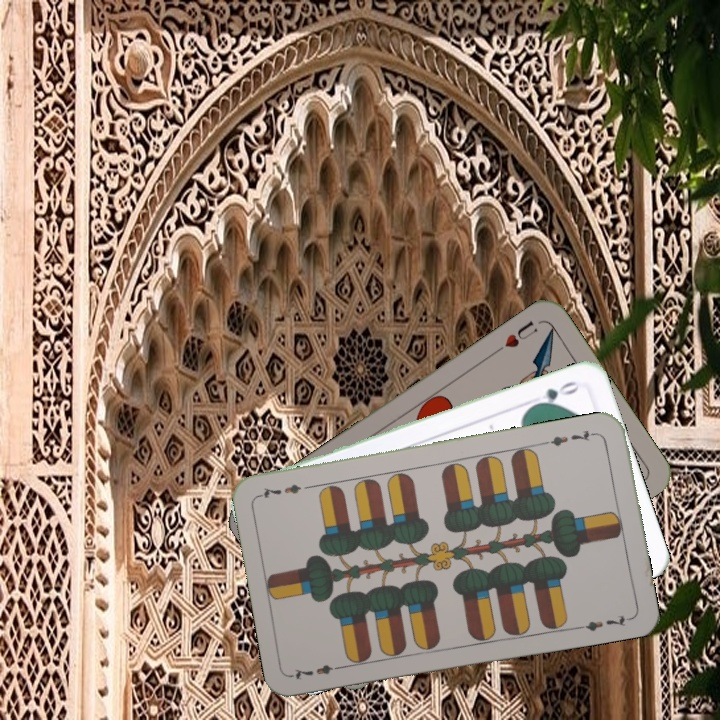E7: (542, 425, 601, 449), (289, 660, 348, 683)
GO: (528, 377, 584, 410)
HU: (490, 316, 541, 356)
